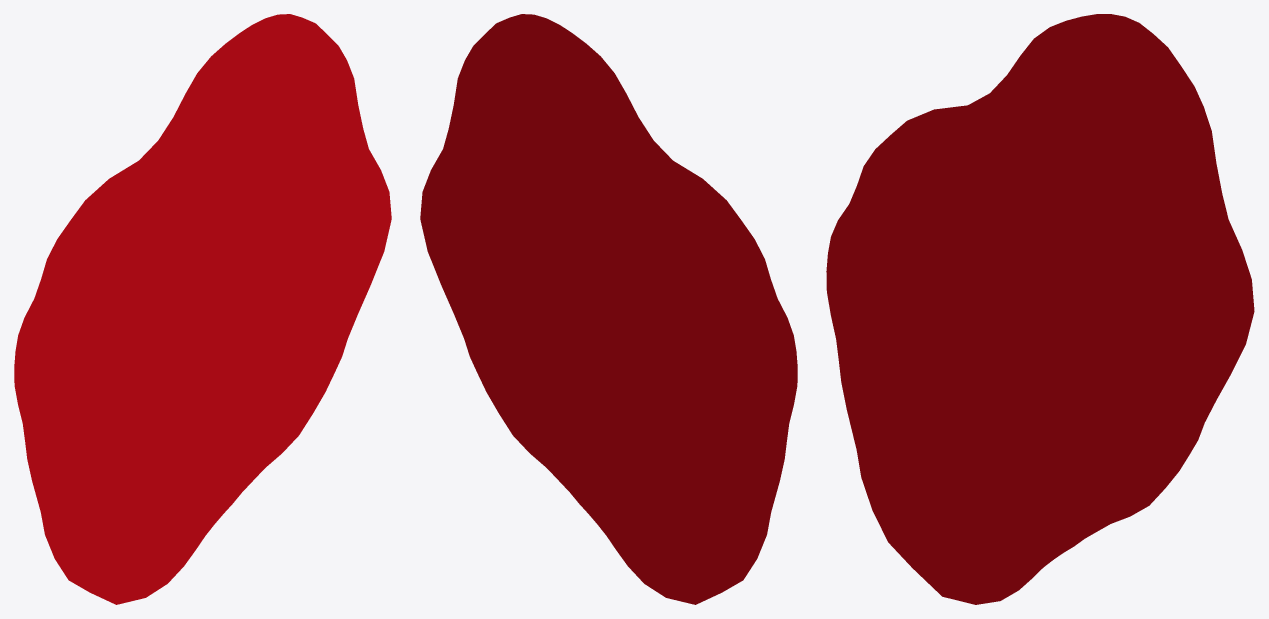
File: blood.fbx
3 renders of one model, left to right at view 1: azimuth 30°, elevation 25°; view 2: azimuth 150°, elevation 25°; view 3: azimuth 330°, elevation 25°, orthographic. The views are drawn at different scales.
Parts seen in each view (by area): view 1: Plane; view 2: Plane; view 3: Plane.
Part boxes in pixels (<box>): Plane: <box>14,14,391,604</box>; Plane: <box>420,14,797,604</box>; Plane: <box>826,14,1254,604</box>.
Bounding box in the file's own units: 214 × 299 × 0.
